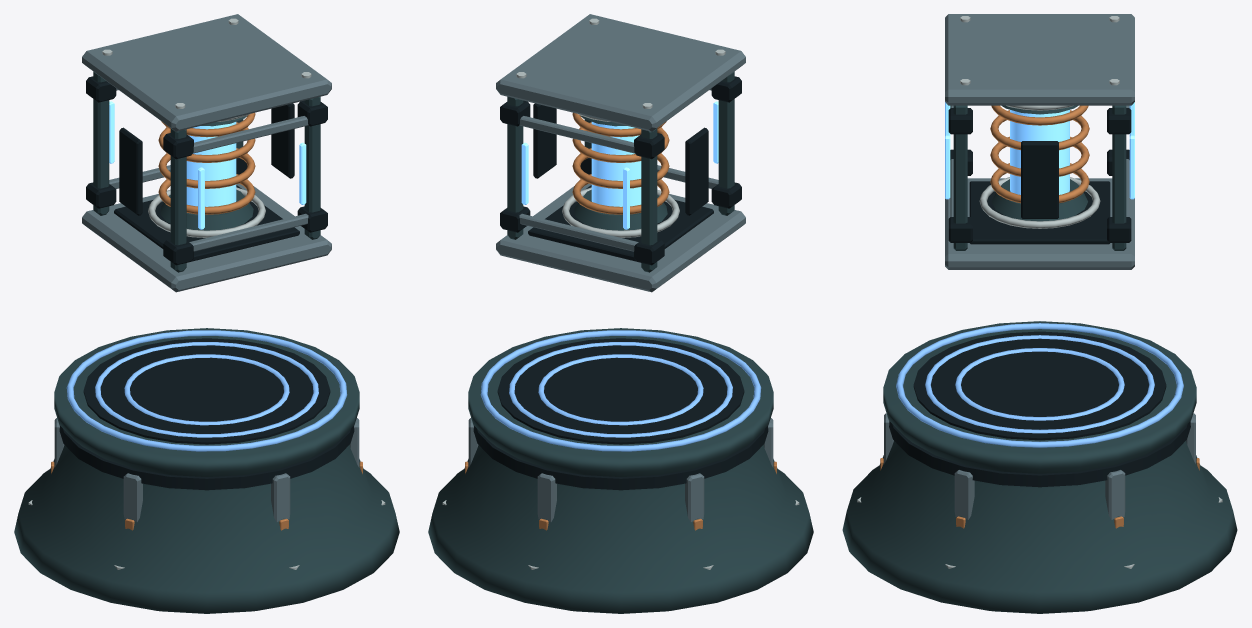
File: energy-node-en01.glb
3 views of the same model, side by side, from view 1: azimuth 30°, elevation 25°; view 2: azimuth 150°, elevation 25°; view 3: azimuth 270°, elevation 25° (orthographic). The views are drawn at different scales.
Visible parts, largest first — view 1: EN01_Base_EN01_CeramicPaint, EN01_Core_EN01_AnodizedFrame, EN01_Base_EN01_Recesses, EN01_Core_EN01_Recesses, EN01_BaseStatus, EN01_Core_EN01_CeramicPaint, EN01_CoreStatus, EN01_Core_EN01_SafetyMarkings, EN01_Base_EN01_AnodizedFrame, EN01_Core_EN01_MachinedAlloy; view 2: EN01_Base_EN01_CeramicPaint, EN01_Core_EN01_AnodizedFrame, EN01_Base_EN01_Recesses, EN01_Core_EN01_Recesses, EN01_BaseStatus, EN01_Core_EN01_CeramicPaint, EN01_CoreStatus, EN01_Core_EN01_SafetyMarkings, EN01_Base_EN01_AnodizedFrame, EN01_Core_EN01_MachinedAlloy; view 3: EN01_Base_EN01_CeramicPaint, EN01_Core_EN01_AnodizedFrame, EN01_Base_EN01_Recesses, EN01_Core_EN01_Recesses, EN01_BaseStatus, EN01_Core_EN01_CeramicPaint, EN01_Core_EN01_SafetyMarkings, EN01_CoreStatus, EN01_Base_EN01_AnodizedFrame, EN01_Core_EN01_MachinedAlloy.
Boxes of the visible parts, x1,y1,x2,y2 form: EN01_Base_EN01_CeramicPaint: [14, 328, 399, 613]; EN01_Core_EN01_AnodizedFrame: [82, 14, 331, 292]; EN01_Base_EN01_Recesses: [59, 338, 354, 490]; EN01_Core_EN01_Recesses: [86, 76, 327, 265]; EN01_BaseStatus: [66, 330, 347, 451]; EN01_Core_EN01_CeramicPaint: [93, 71, 320, 272]; EN01_CoreStatus: [109, 101, 306, 229]; EN01_Core_EN01_SafetyMarkings: [158, 112, 255, 214]; EN01_Base_EN01_AnodizedFrame: [54, 418, 359, 521]; EN01_Core_EN01_MachinedAlloy: [102, 18, 311, 237]; EN01_Base_EN01_CeramicPaint: [428, 328, 813, 613]; EN01_Core_EN01_AnodizedFrame: [496, 14, 745, 292]; EN01_Base_EN01_Recesses: [473, 338, 768, 490]; EN01_Core_EN01_Recesses: [500, 76, 741, 265]; EN01_BaseStatus: [480, 330, 761, 451]; EN01_Core_EN01_CeramicPaint: [507, 71, 734, 272]; EN01_CoreStatus: [521, 101, 718, 229]; EN01_Core_EN01_SafetyMarkings: [572, 112, 669, 214]; EN01_Base_EN01_AnodizedFrame: [468, 418, 773, 521]; EN01_Core_EN01_MachinedAlloy: [516, 18, 725, 237]; EN01_Base_EN01_CeramicPaint: [842, 321, 1237, 613]; EN01_Core_EN01_AnodizedFrame: [945, 14, 1134, 269]; EN01_Base_EN01_Recesses: [889, 331, 1190, 487]; EN01_Core_EN01_Recesses: [948, 108, 1131, 244]; EN01_BaseStatus: [896, 323, 1183, 447]; EN01_Core_EN01_CeramicPaint: [953, 105, 1126, 250]; EN01_Core_EN01_SafetyMarkings: [990, 105, 1089, 203]; EN01_CoreStatus: [945, 102, 1134, 199]; EN01_Base_EN01_AnodizedFrame: [884, 413, 1195, 519]; EN01_Core_EN01_MachinedAlloy: [960, 16, 1119, 228].
Bounding box in the file's own units: 1.35 × 1.85 × 1.35.
